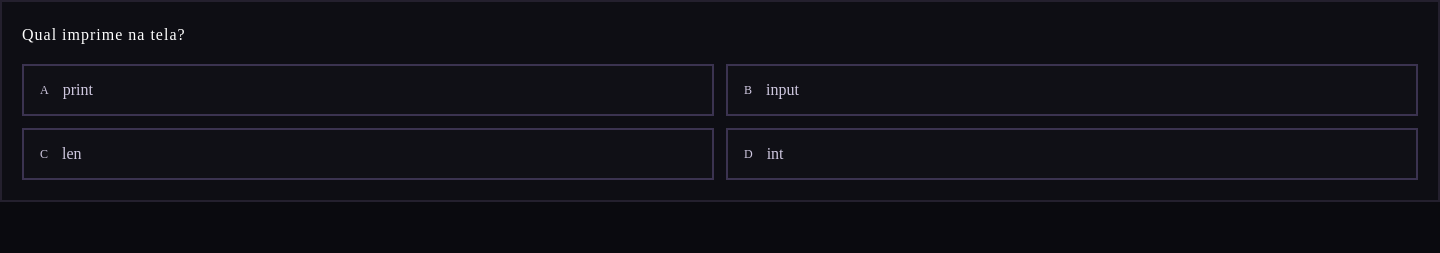
Test: QuizQuestao › erro marca a escolhida de vermelho e mostra a certa
The width and height of the screenshot is (1440, 253).
Step 1. Click the button "C len" → (45, 154), box [22,128,714,180]
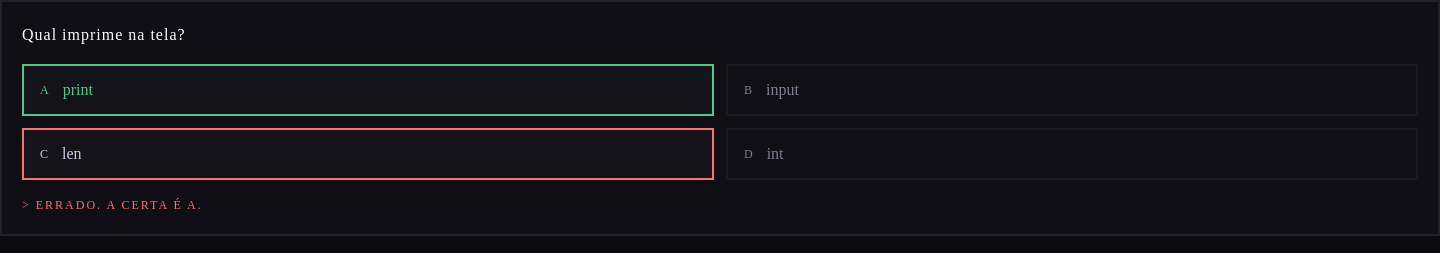
Expected: the message shows "A CERTA É A", [22,198,203,212]
